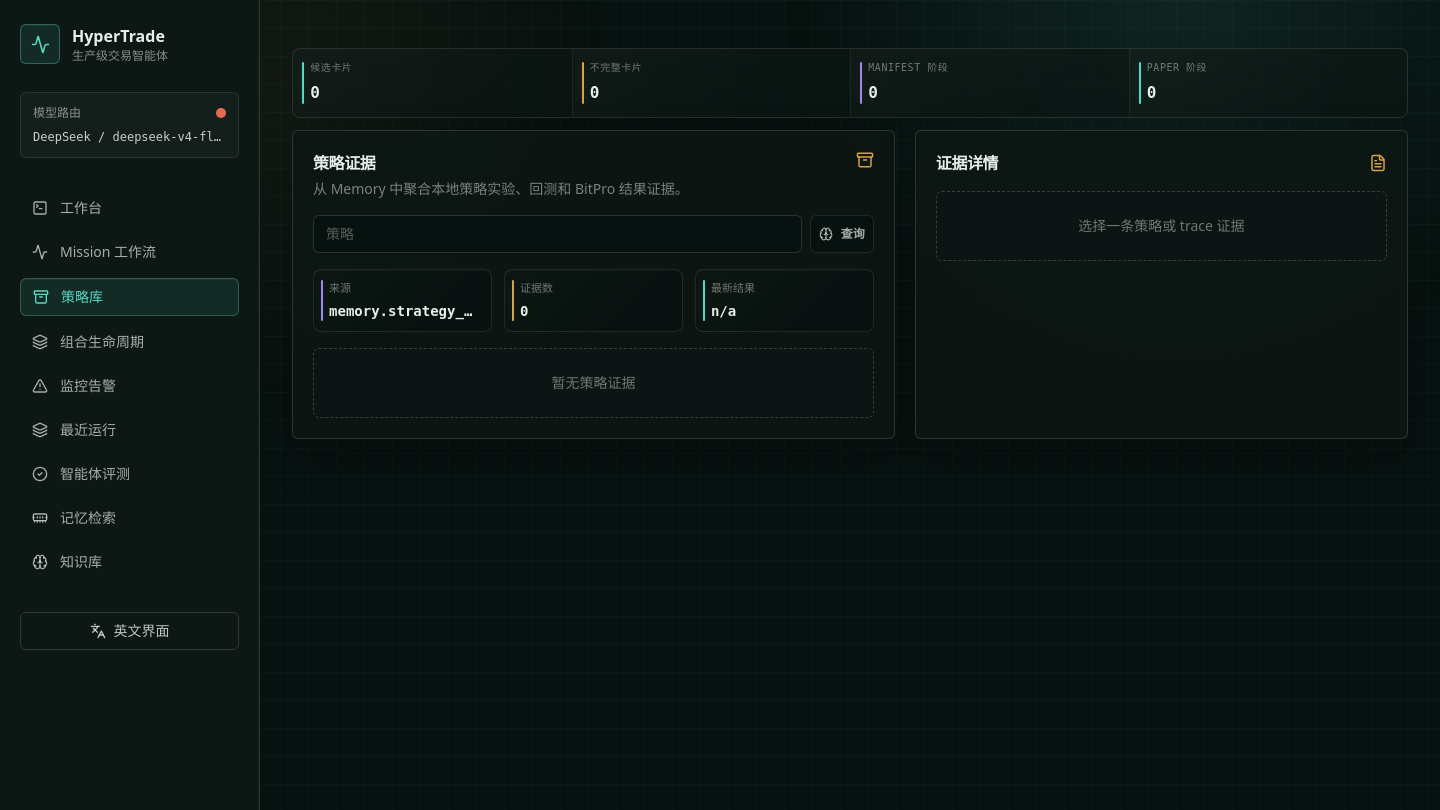
Test: renders scoped metric strips for every routed operator page
expect the text "候选卡片" is shown: met, box [310,62,352,74]
expect the text "不完整卡片" is shown: met, box [590,62,642,74]
Click the link "监控告警" at {"x": 74, "y": 386}, box [32,376,116,395]
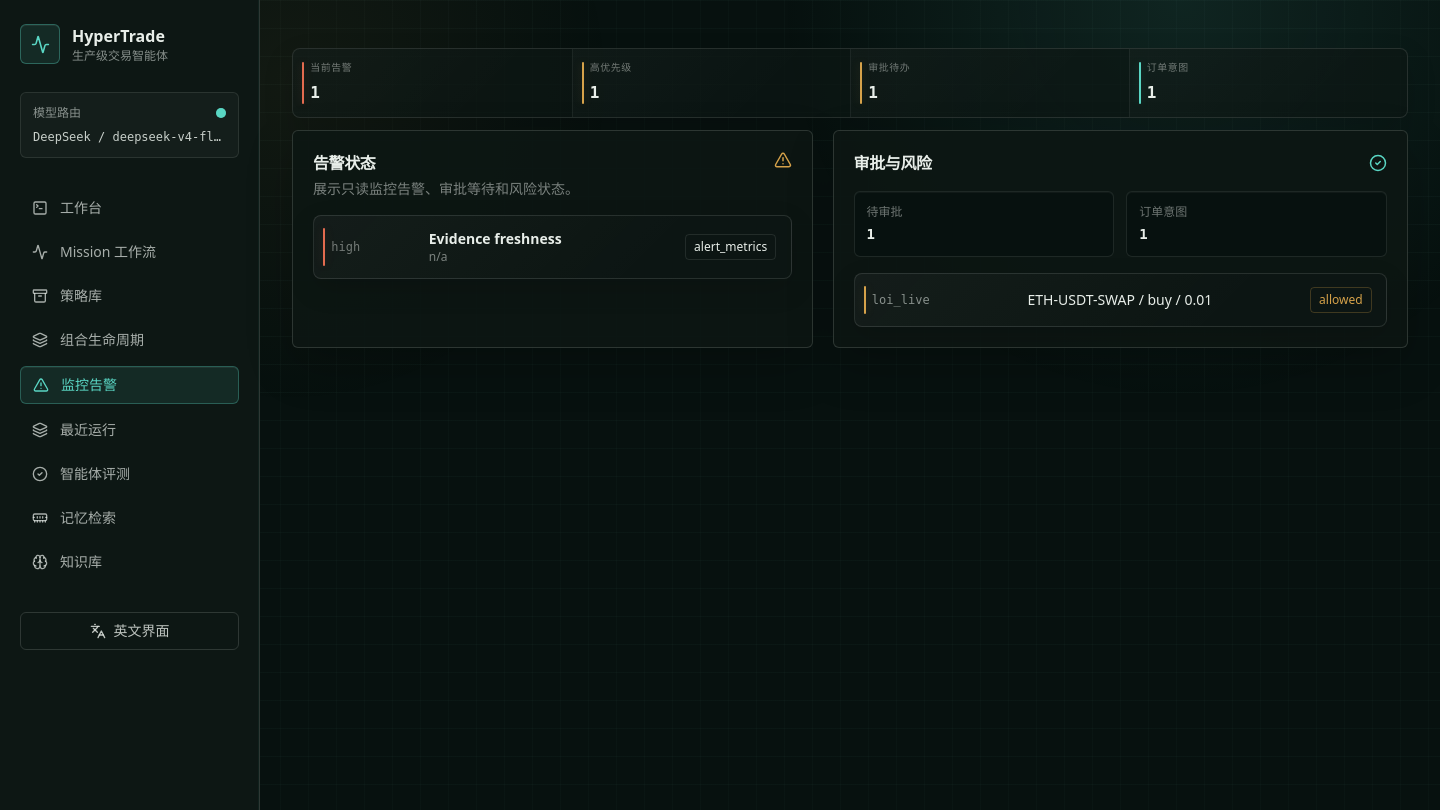
expect the text "当前告警" is shown: met, box [310,62,352,74]
expect the text "高优先级" is shown: met, box [590,62,632,74]
Click the link "记忆检索" at {"x": 74, "y": 518}, box [32,508,116,527]
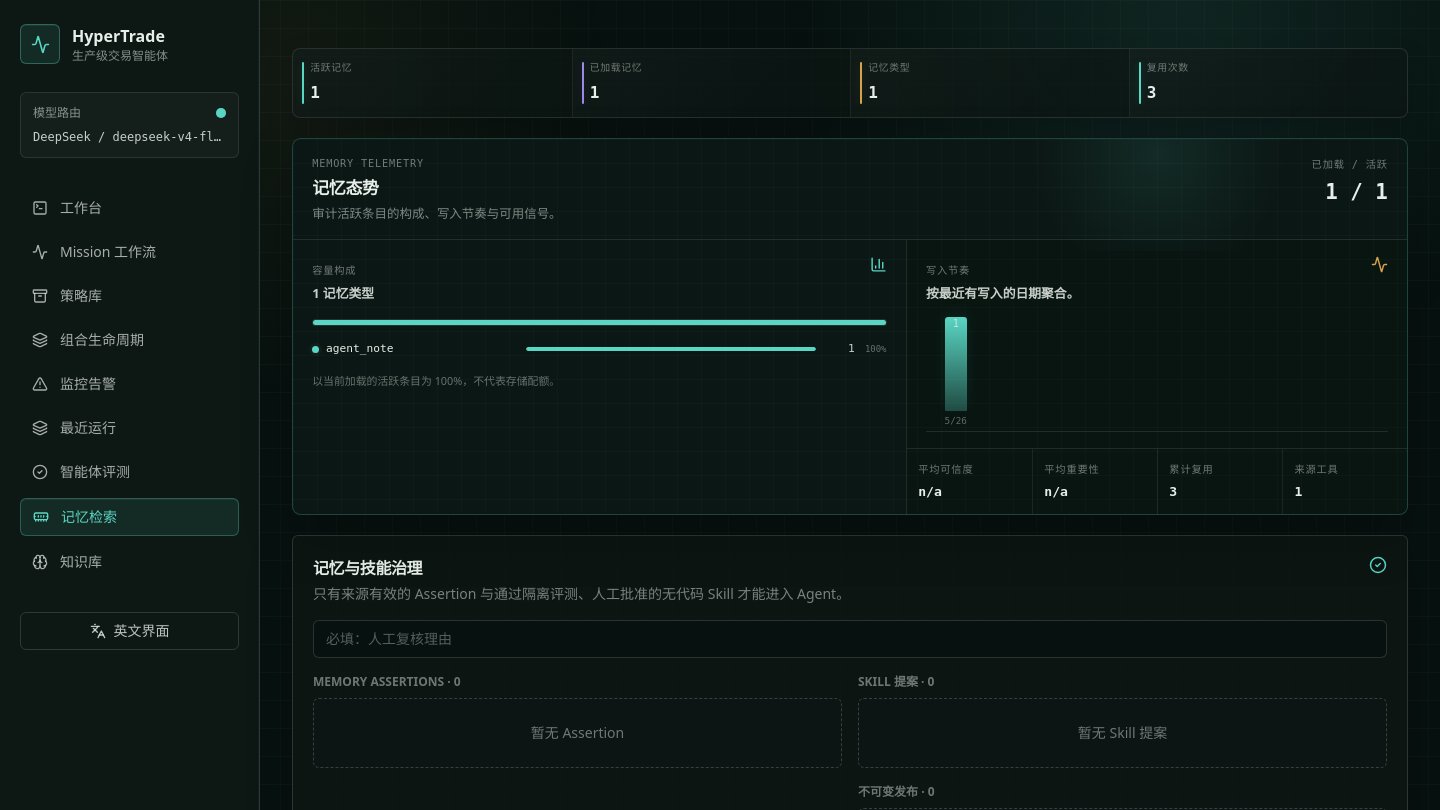
expect the text "活跃记忆" is shown: met, box [310,62,352,74]
expect the text "已加载记忆" is shown: met, box [590,62,642,74]
Click the link "知识库" at {"x": 67, "y": 562}, box [32,552,102,571]
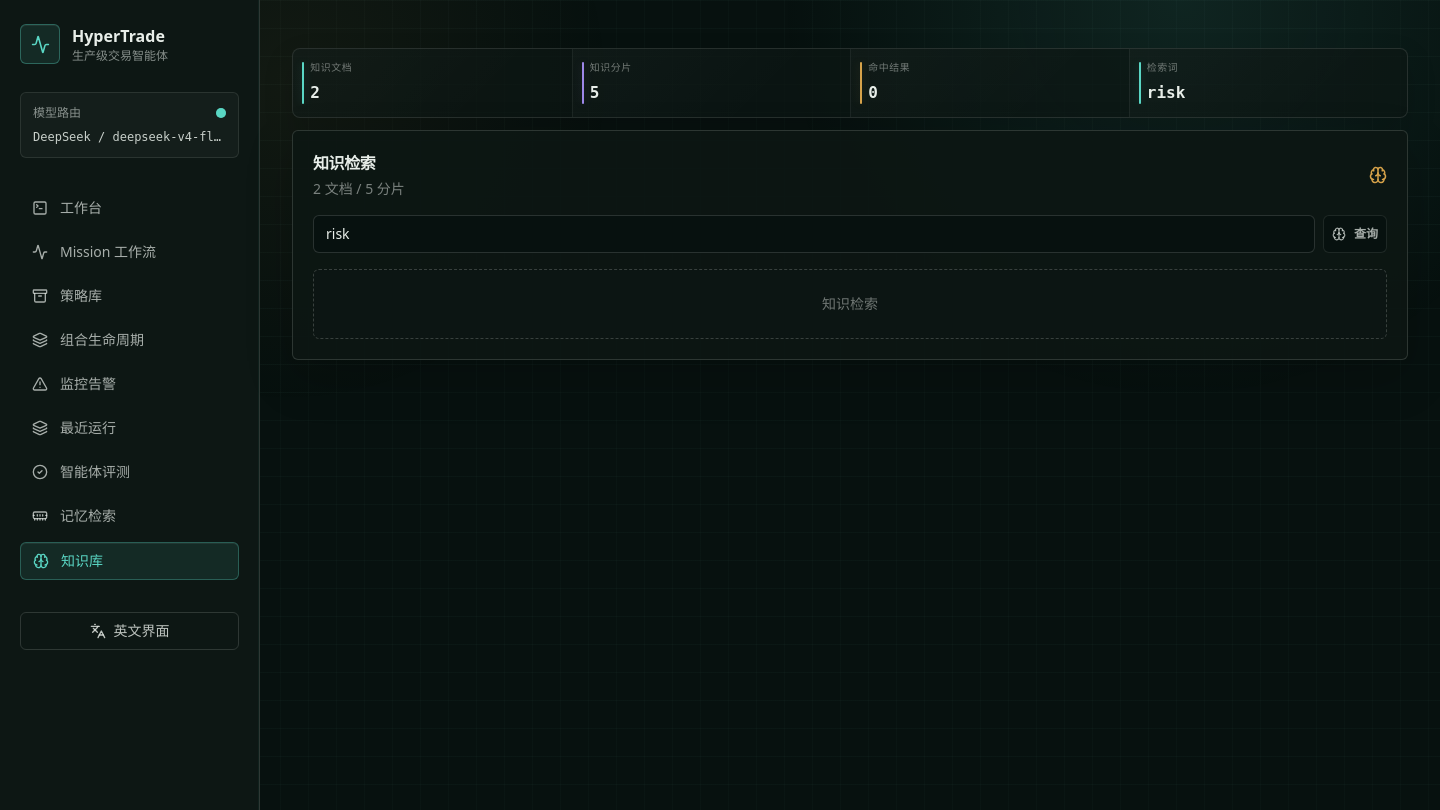
expect the text "知识文档" is shown: met, box [310,62,352,74]
expect the text "知识分片" is shown: met, box [590,62,632,74]
Click the link "最近运行" at {"x": 74, "y": 428}, box [32,418,116,437]
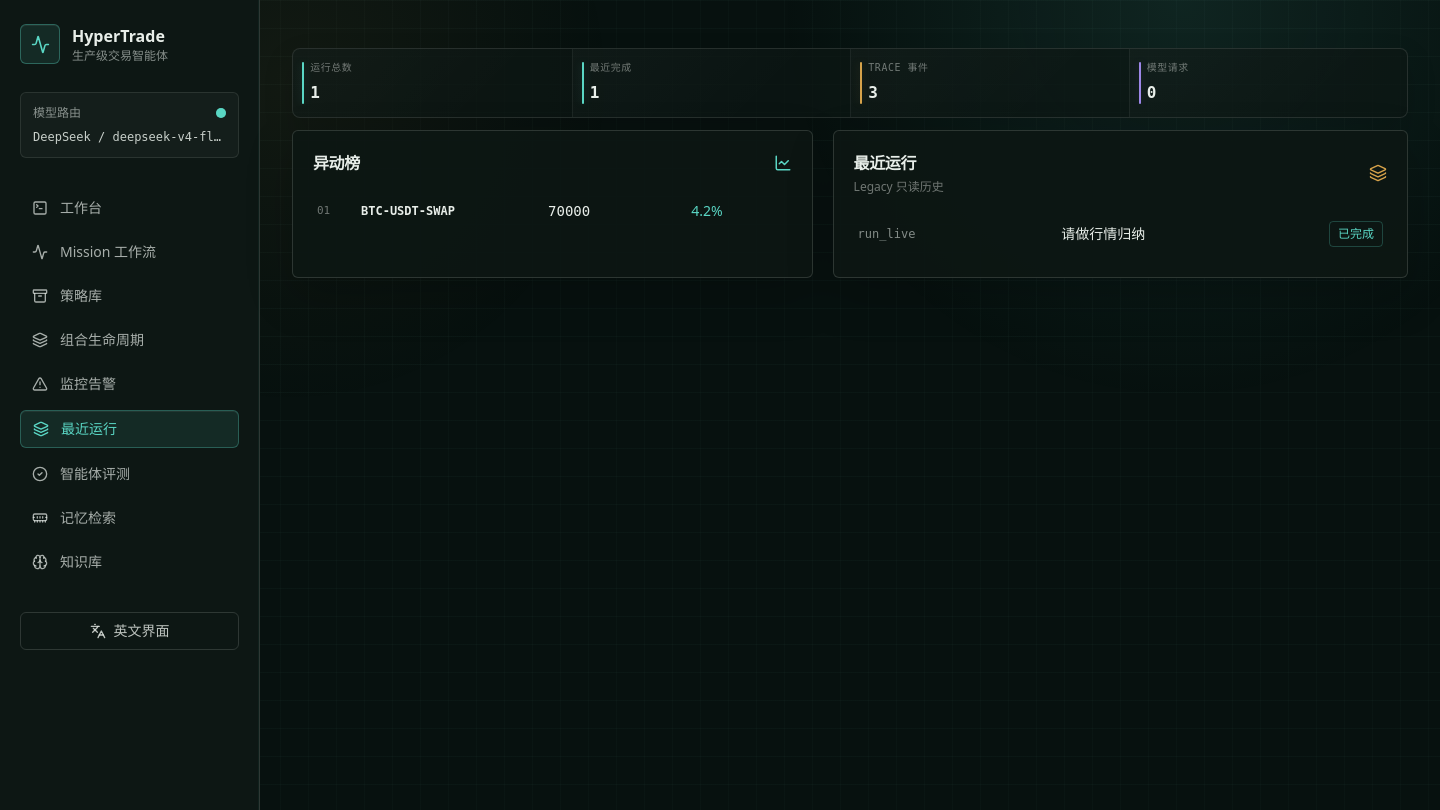
expect the text "运行总数" is shown: met, box [310,62,352,74]
expect the text "Trace 事件" is shown: met, box [868,62,929,74]
